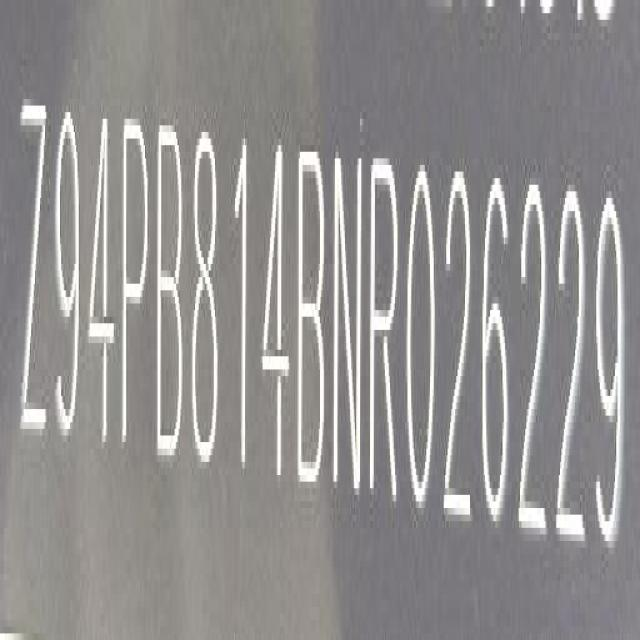0: (406, 162, 438, 518)
1: (235, 130, 251, 489)
2: (443, 168, 478, 530), (553, 187, 587, 553), (518, 179, 549, 546)
4: (260, 134, 293, 488), (87, 108, 118, 458)
6: (480, 172, 514, 534)
8: (191, 127, 225, 477)
9: (594, 190, 629, 555), (50, 104, 81, 458)
B: (297, 140, 331, 490), (156, 115, 188, 470)
N: (334, 148, 367, 501)
P: (120, 113, 156, 466)
R: (368, 149, 402, 507)
Z: (18, 94, 49, 453)
